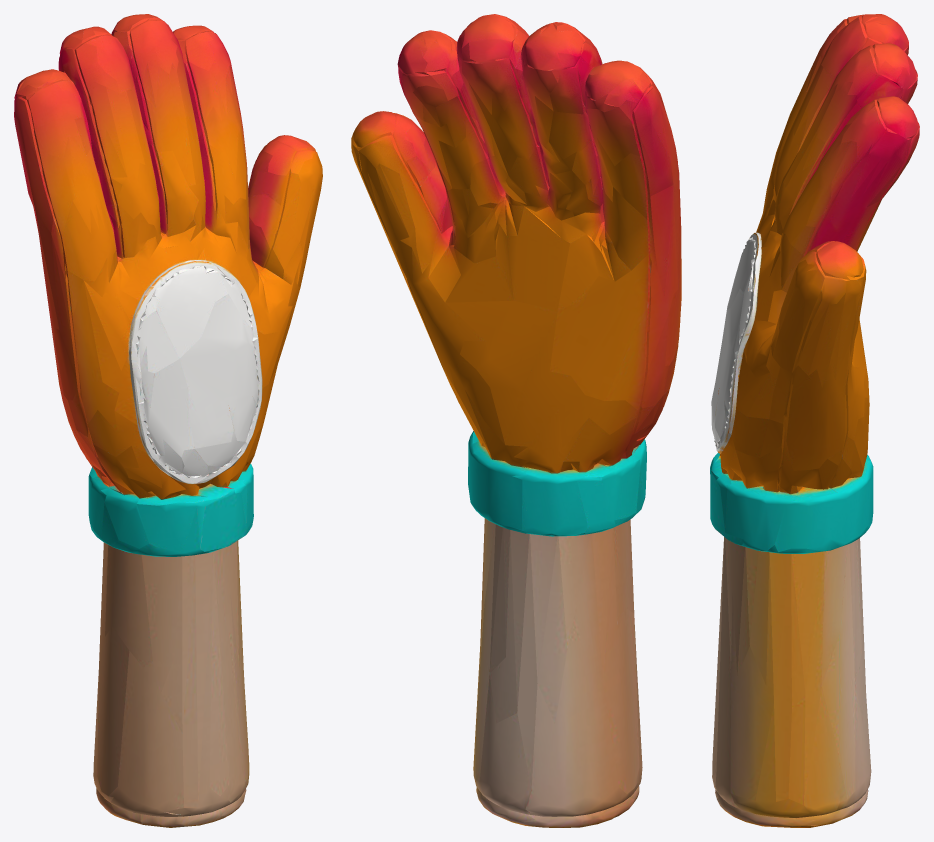
The model's file is giant-foam-hand.glb.
3 views of the same model, side by side, from view 1: azimuth 30°, elevation 25°; view 2: azimuth 150°, elevation 25°; view 3: azimuth 270°, elevation 25° (orthographic). The views are drawn at different scales.
Parts seen in each view (by area): view 1: mesh_node; view 2: mesh_node; view 3: mesh_node.
Part boxes in pixels (x1,y1,x2,y2): mesh_node: (14,14,322,827); mesh_node: (351,14,681,827); mesh_node: (710,14,919,827).
Size of the model in its own units: 0.7671 by 1.9 by 0.475.
1 material, 1 textured.
